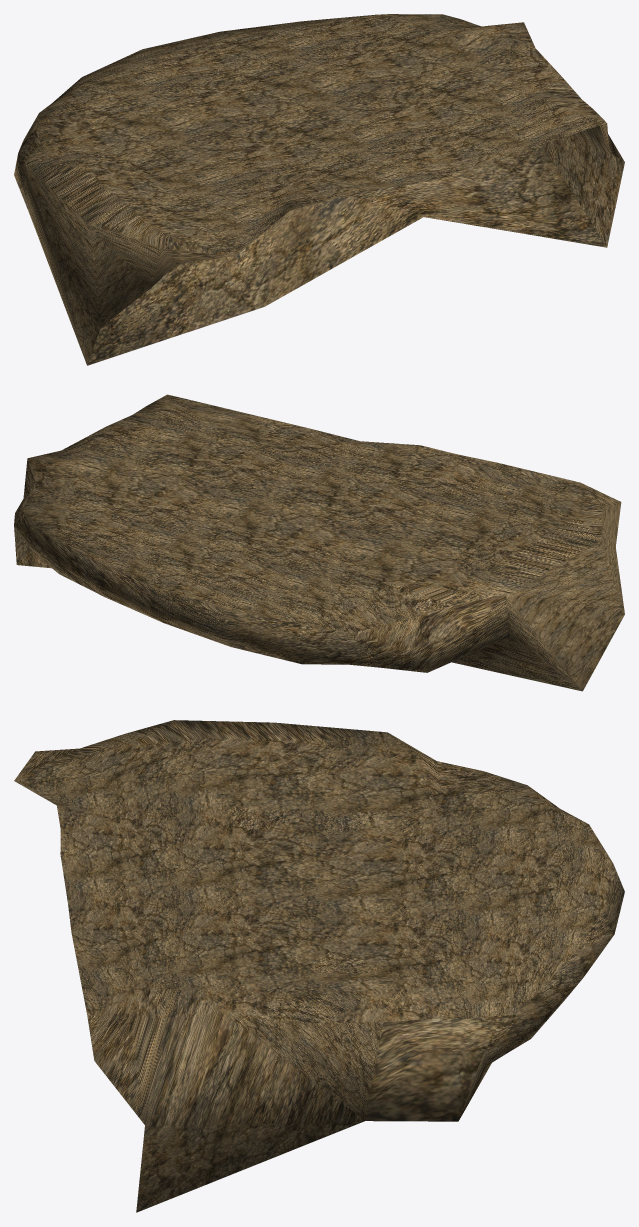
The model's file is CH09_SMAUG_PLAYSURFACE_LONELYMOUNTAIN_LM_PLAYSURFACE31.fbx.
3 renders of one model, top to bottom at view 1: azimuth 30°, elevation 25°; view 2: azimuth 150°, elevation 25°; view 3: azimuth 270°, elevation 25°, orthographic. The views are drawn at different scales.
Parts seen in each view (by area): view 1: CH09_SMAUG_PLAYSURFACE_LONELYMOUNTAIN_LM_PLAYSURFACE31; view 2: CH09_SMAUG_PLAYSURFACE_LONELYMOUNTAIN_LM_PLAYSURFACE31; view 3: CH09_SMAUG_PLAYSURFACE_LONELYMOUNTAIN_LM_PLAYSURFACE31.
Part boxes in pixels (x1,y1,x2,y2): CH09_SMAUG_PLAYSURFACE_LONELYMOUNTAIN_LM_PLAYSURFACE31: [14, 14, 624, 365]; CH09_SMAUG_PLAYSURFACE_LONELYMOUNTAIN_LM_PLAYSURFACE31: [14, 394, 624, 691]; CH09_SMAUG_PLAYSURFACE_LONELYMOUNTAIN_LM_PLAYSURFACE31: [14, 720, 624, 1212].
Bounding box in the file's own units: 269999 × 83889 × 207605.
2 materials, 2 textured.
